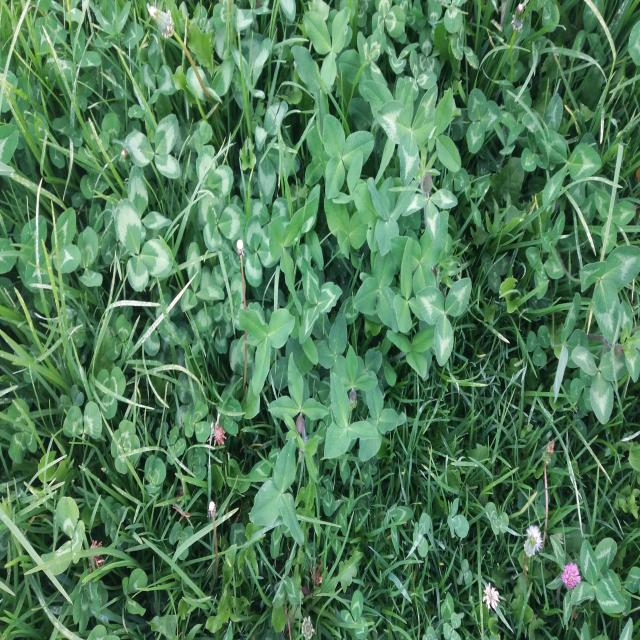Four Leaf Clover: (110, 420, 141, 474)
